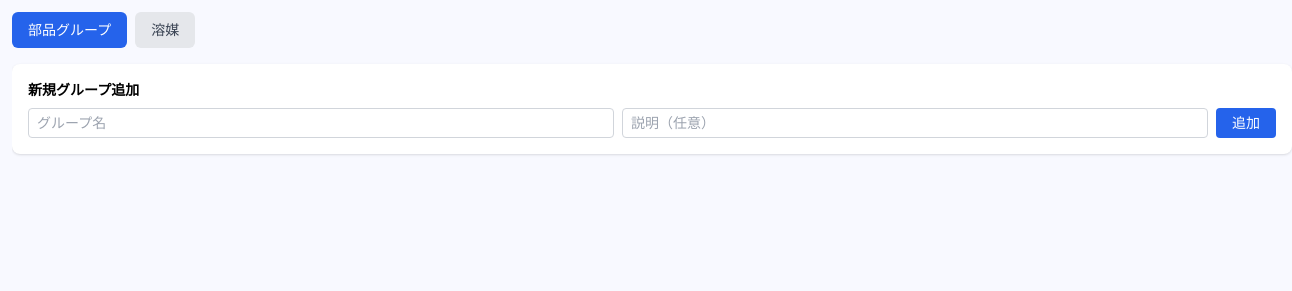
DatabaseEditor › 溶媒操作 › 溶媒件数が表示される
Click the button "溶媒" at [165, 30], box [135, 12, 195, 48]
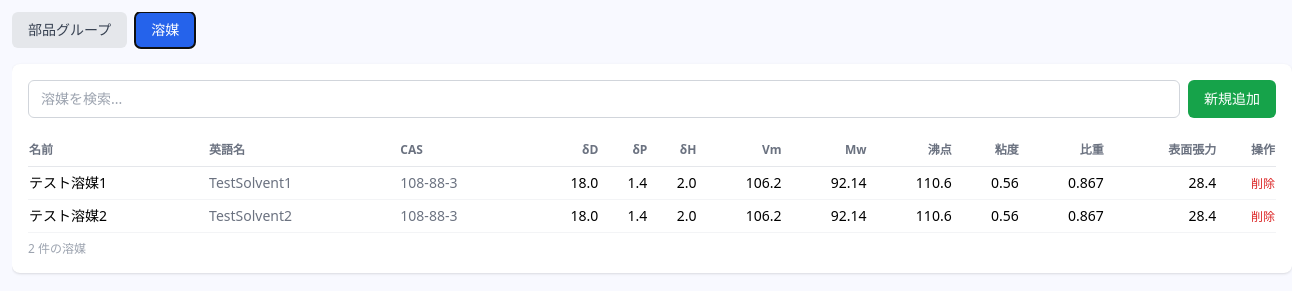
Check: the text "2 件の溶媒" is shown, box [28, 240, 86, 257]
